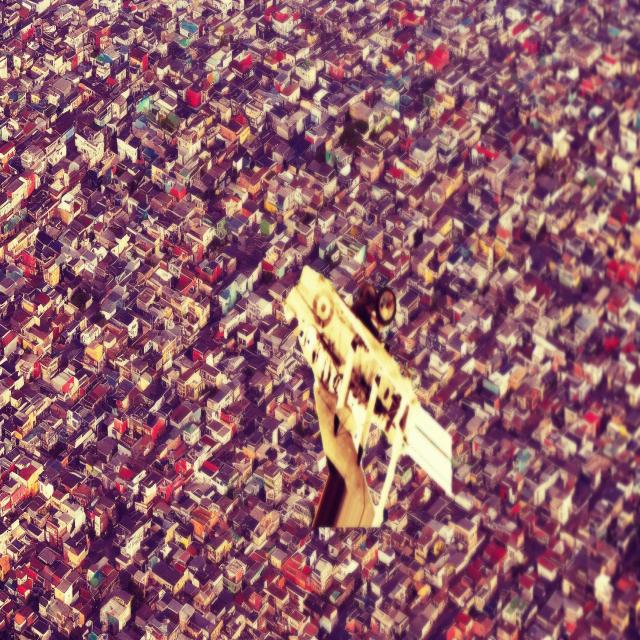airplane: (283, 264, 454, 528)
